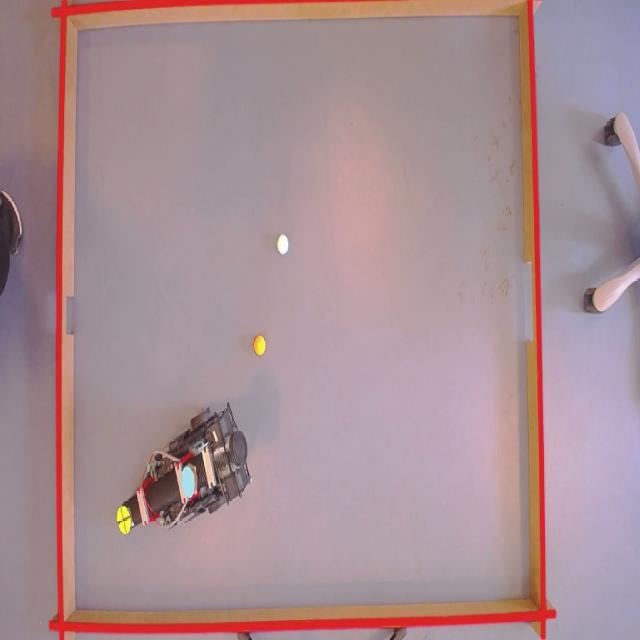orange: (254, 336, 268, 356)
robot: (110, 406, 254, 537)
robot-front: (116, 504, 132, 536)
robot-rear: (180, 464, 198, 500)
white: (275, 233, 289, 254)
